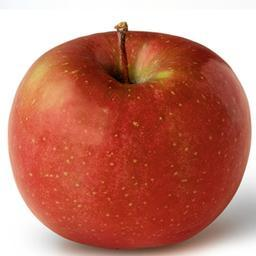apple: (8, 22, 251, 249)
